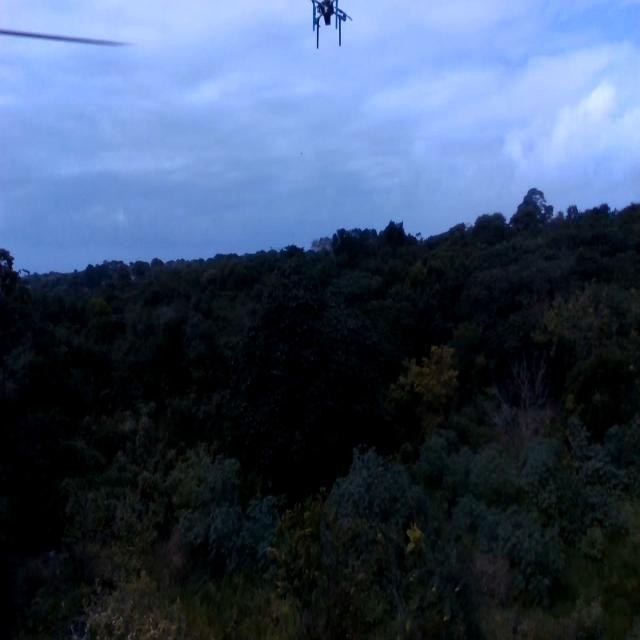-uav-: (298, 0, 361, 54)
